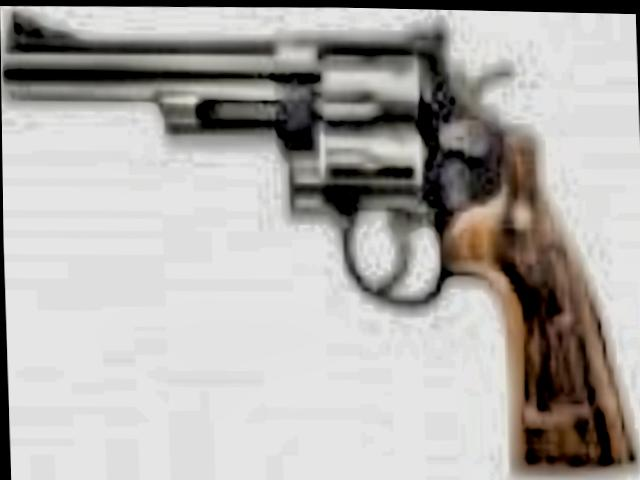pistol: (0, 0, 634, 480)
